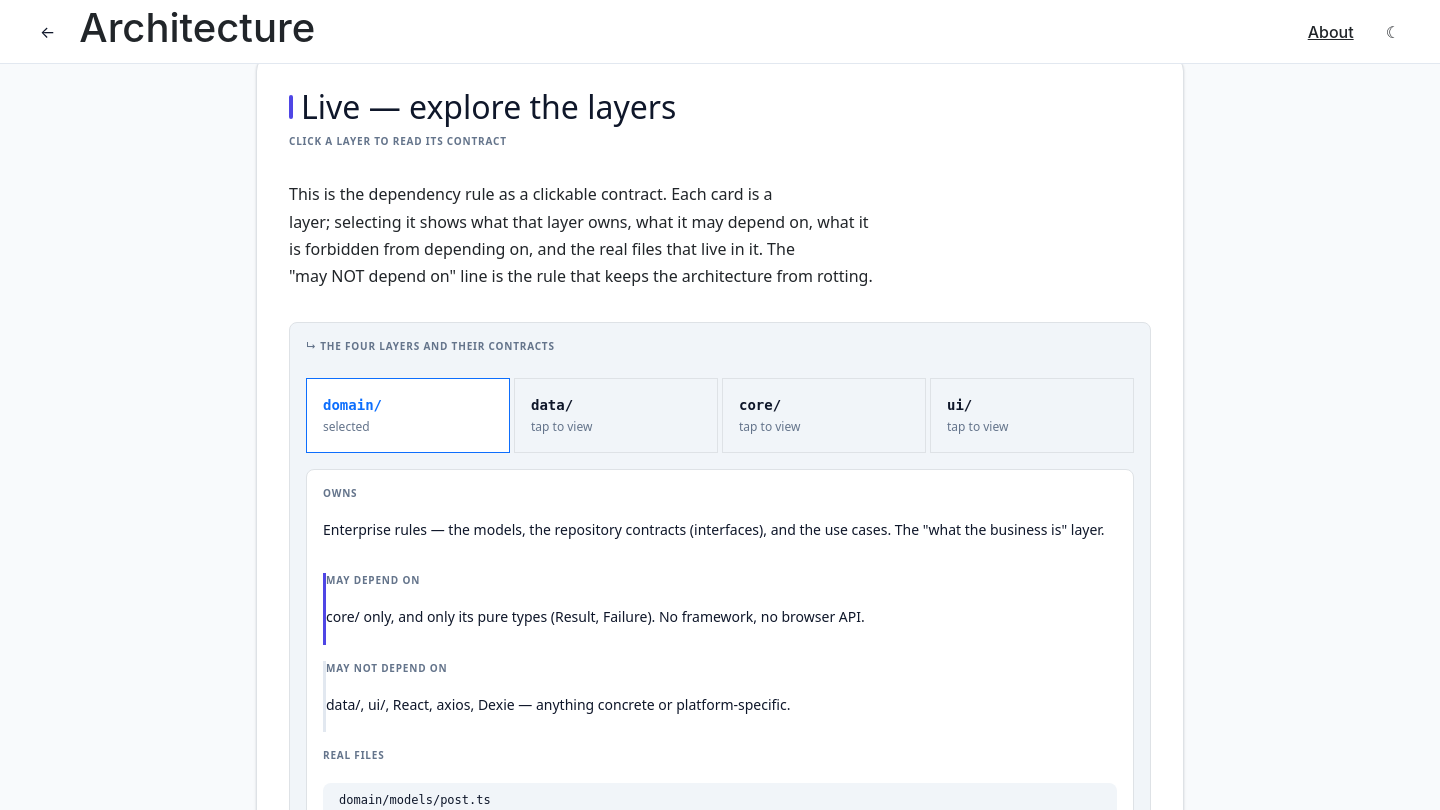
Architecture screen › switches the layer explorer contract when a layer is selected
(page scrolled)
Expected: the text "data/, ui/, React, axios, Dexie — anything concrete or platform-specific." is shown, 326,695 -> 790,714
Step 1. Click the text "ui/" → (960, 405), box 947,397 -> 972,413
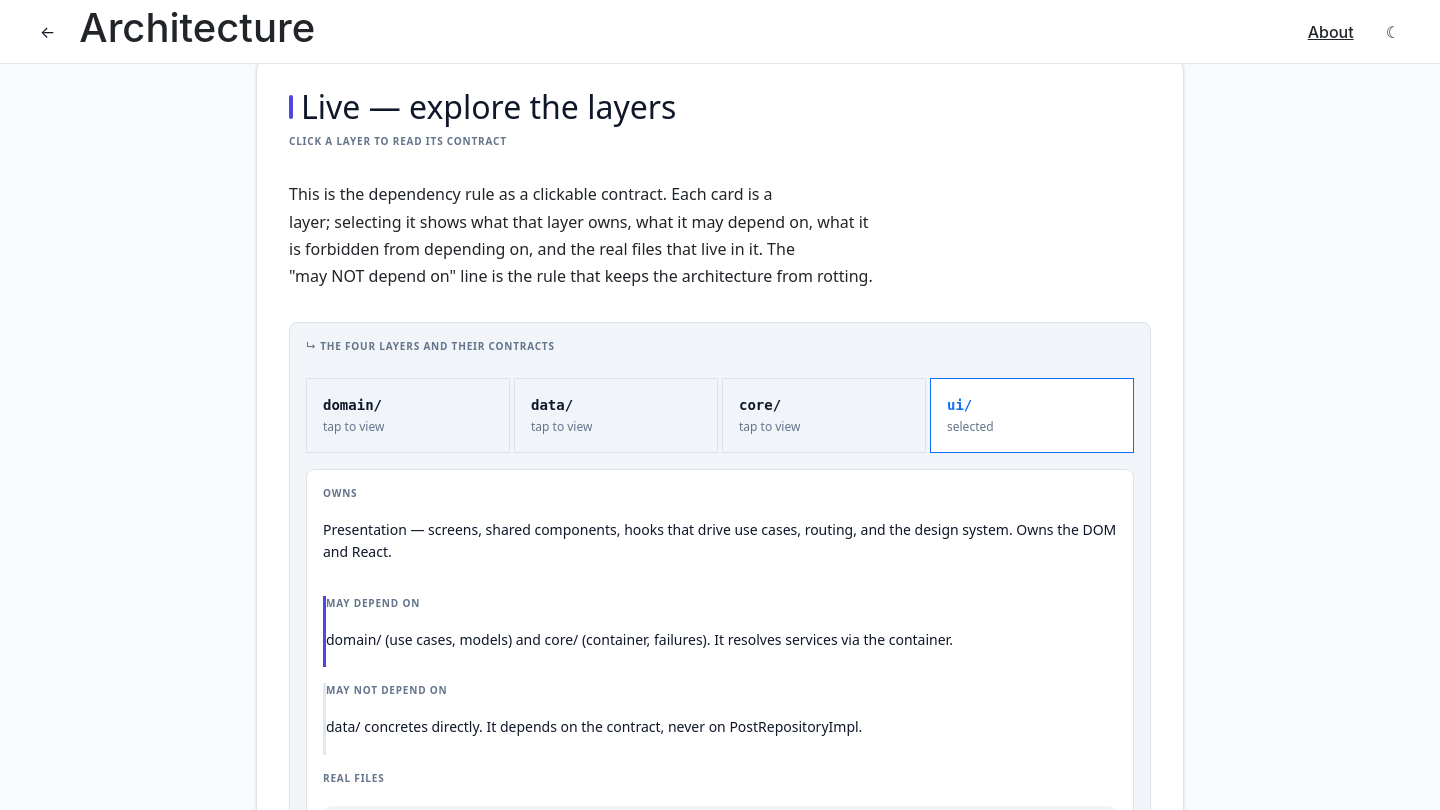
Expected: the text "data/ concretes directly. It depends on the contract, never on PostRepositoryImpl." is shown, 326,717 -> 862,736
